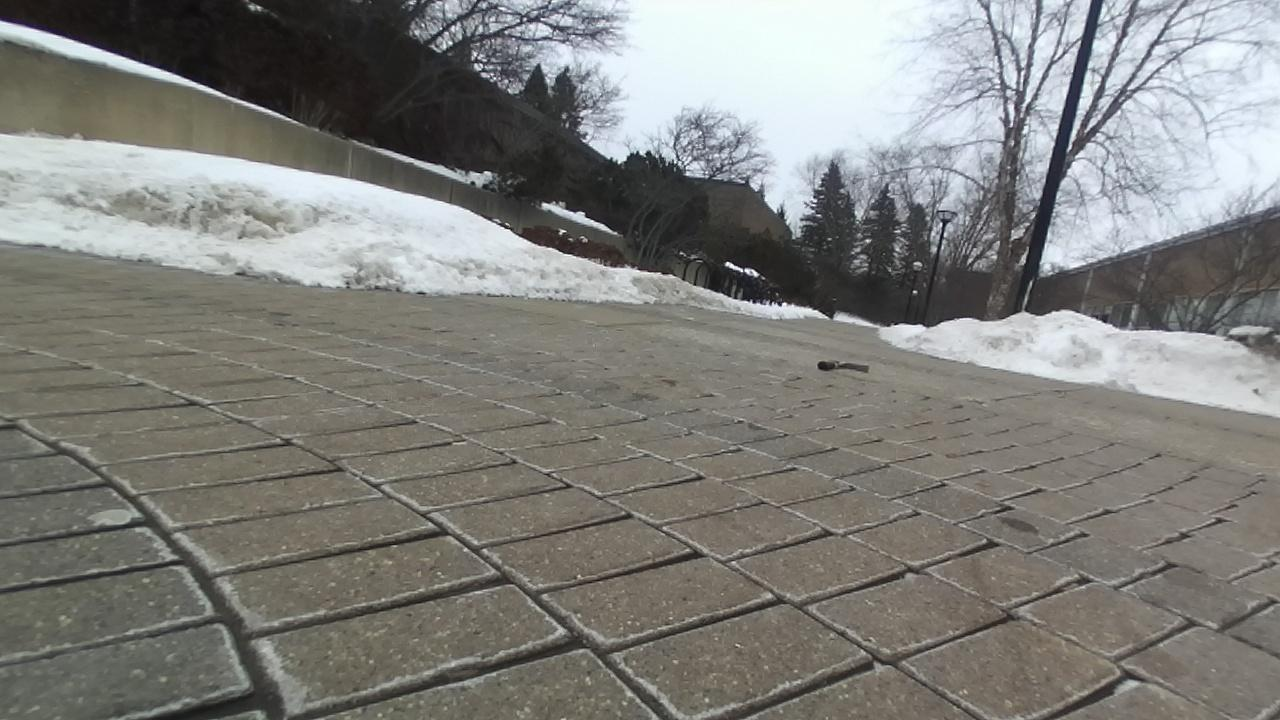pick: (817, 361, 869, 372)
